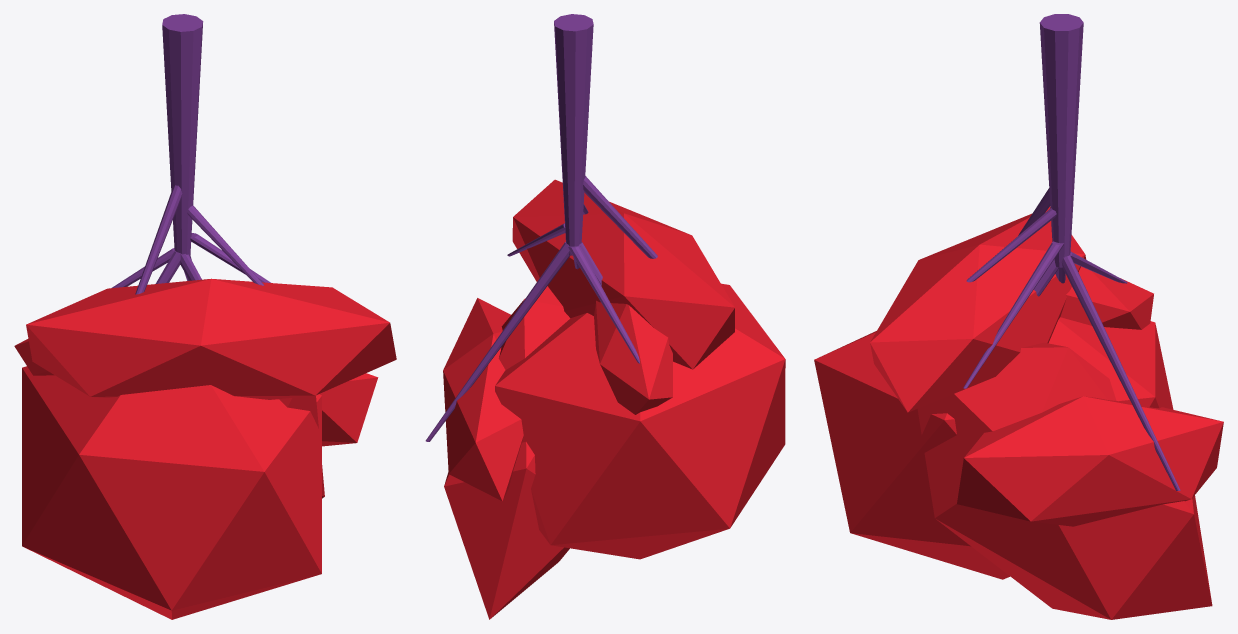
Rendered from tree_3.obj.
The picture shows the model from 3 angles, left to right: view 1: azimuth 30°, elevation 25°; view 2: azimuth 150°, elevation 25°; view 3: azimuth 270°, elevation 25°; orthographic projection. The views are drawn at different scales.
Visible parts, largest first — view 1: leaves_3_obj_0.005, trunk_3_obj_0.004, trunk_3_base_obj_0.006; view 2: leaves_3_obj_0.005, trunk_3_obj_0.004, trunk_3_base_obj_0.006; view 3: leaves_3_obj_0.005, trunk_3_obj_0.004, trunk_3_base_obj_0.006.
Part boxes in pixels (x1,y1,x2,y2): leaves_3_obj_0.005: (14,278,396,619); trunk_3_obj_0.004: (111,149,270,294); trunk_3_base_obj_0.006: (162,14,203,157); leaves_3_obj_0.005: (443,179,785,619); trunk_3_obj_0.004: (425,146,657,441); trunk_3_base_obj_0.006: (554,14,593,148); leaves_3_obj_0.005: (814,206,1223,619); trunk_3_obj_0.004: (963,150,1180,490); trunk_3_base_obj_0.006: (1039,14,1083,160).
Size of the model in its own units: 11.72 by 20.5 by 13.2.
